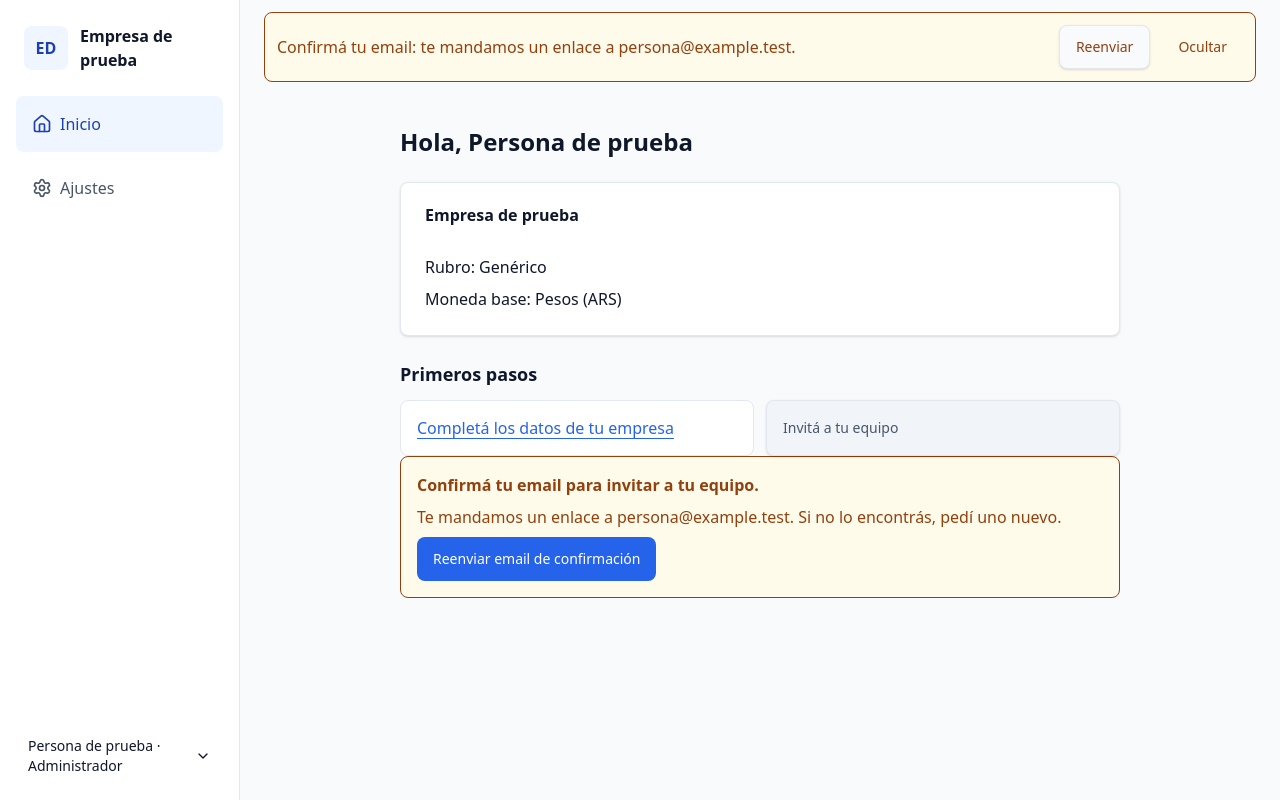
Test: logout menu navigation race › preserves the logged-out reason and never starts a tenant read after logout
The width and height of the screenshot is (1280, 800).
Expected: the text "Rubro: Genérico" is shown, [425,256,547,278]
Click the button "Persona de prueba · Administrador".
click(120, 756)  # box [16,728,223,784]
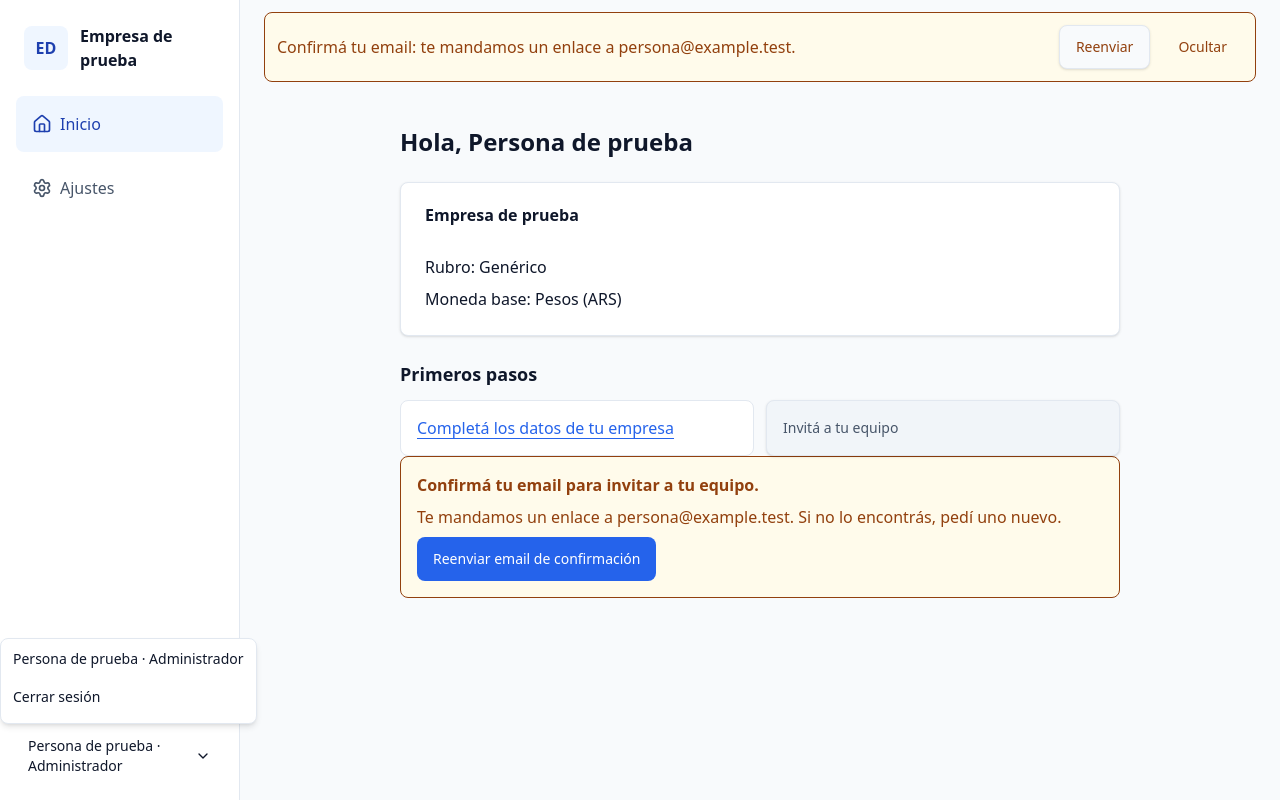
Click the menu item "Cerrar sesión".
click(57, 696)  # box [13,687,100,706]
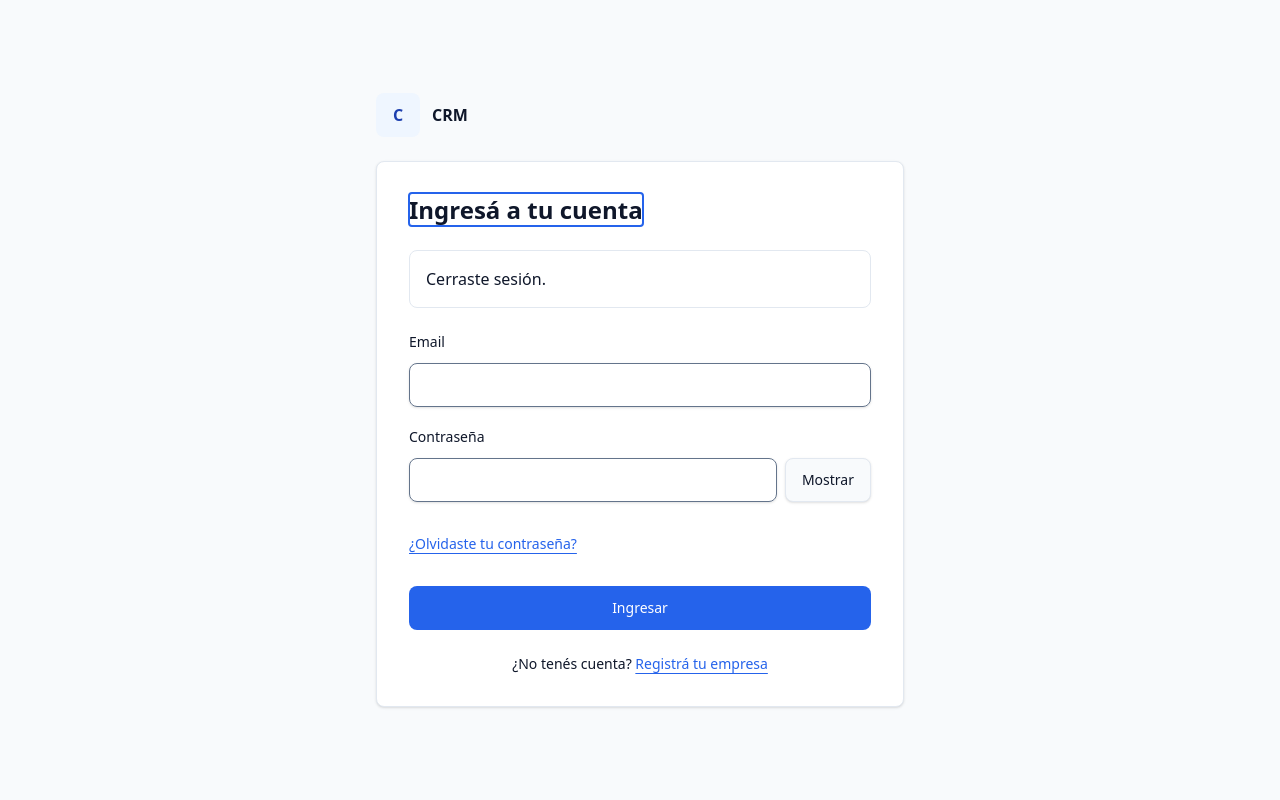
Expected: the text "Cerraste sesión." is shown, [426,268,546,290]
